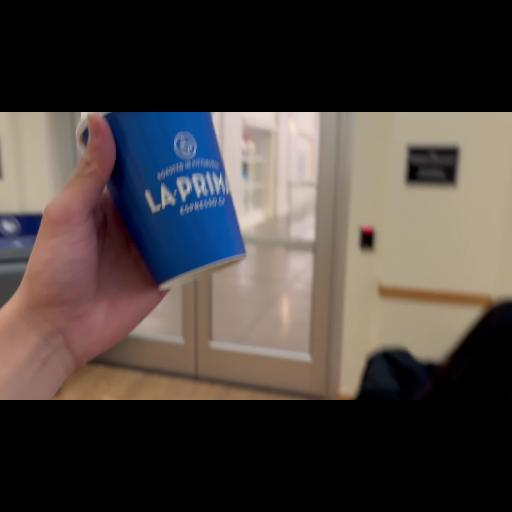lp_paper_cup: (78, 112, 248, 292)
